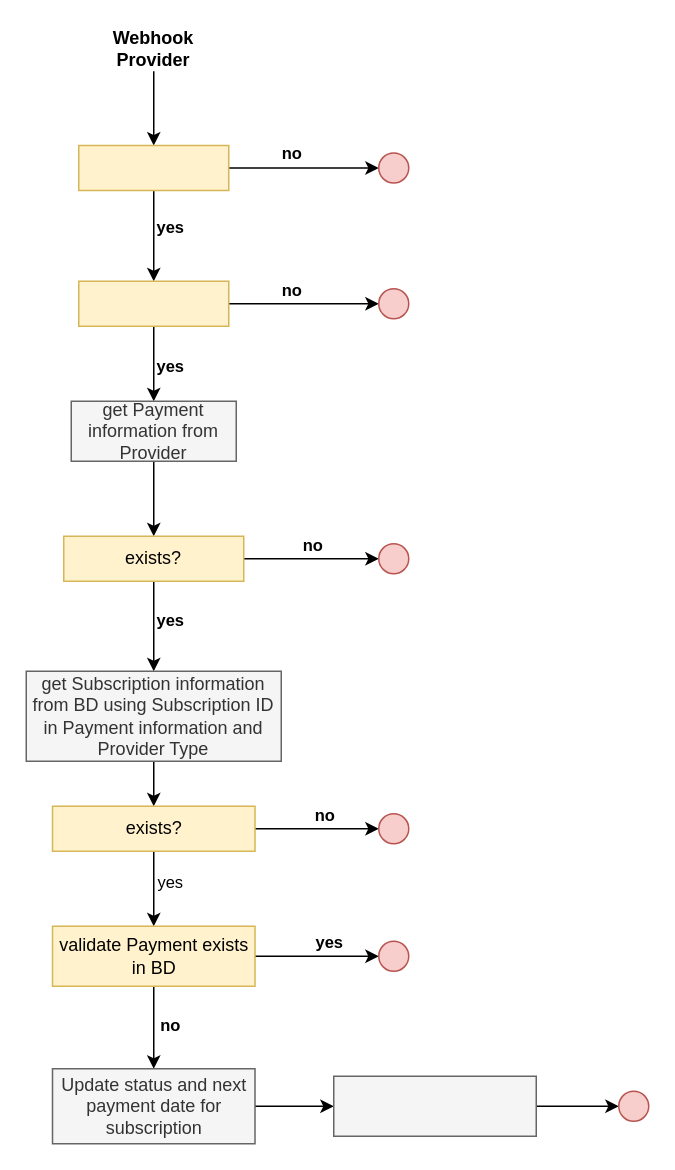
The diagram is 675 pixels wide and 1170 high, and some of its shapes have lost their labels. The shapes that lost their labels are listed below. From the top down, each one's centre as x and y in pixels, then its label:
the point at 153,167: is Authentic?
the point at 153,303: is a Payment notification?
the point at 434,1105: Save Payment information on BD
